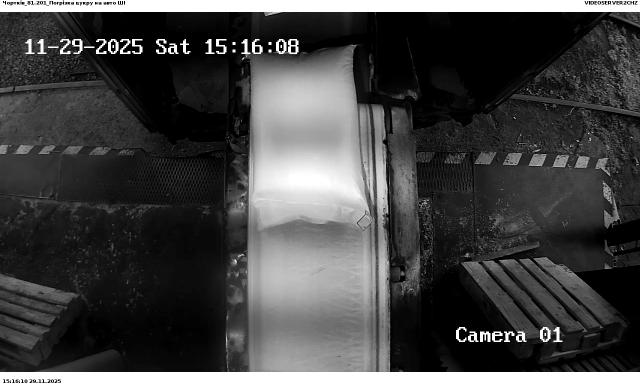bag: (251, 45, 373, 231)
